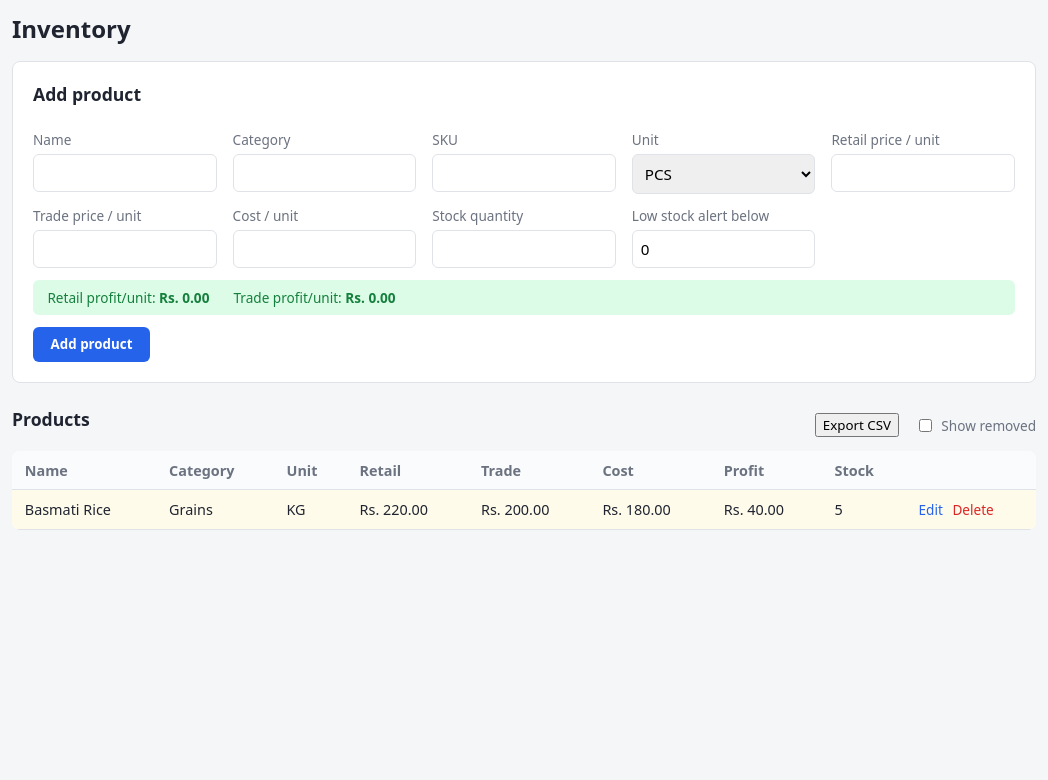
Test case: Inventory page › shows an error if deleting a product fails
The width and height of the screenshot is (1048, 780).
Check: the text "Basmati Rice" is shown, box [12, 490, 156, 530]
Click the button "Delete": (973, 510) [952, 500, 994, 519]
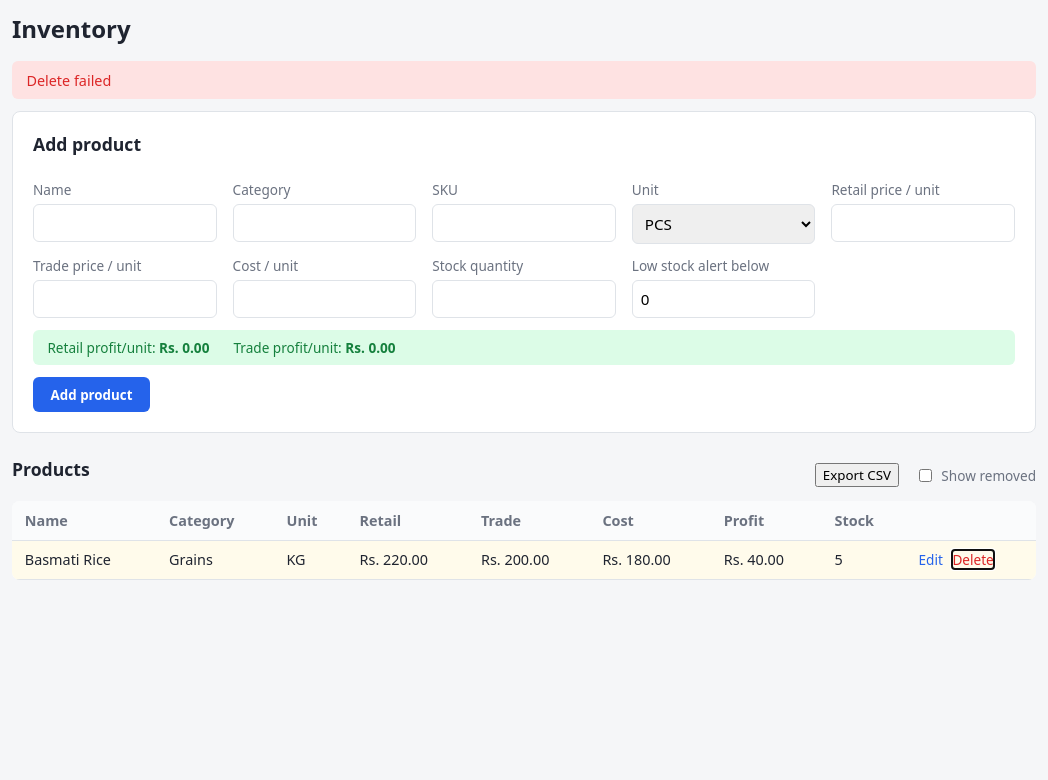
Check: the text "Delete failed" is shown, box [12, 61, 1036, 99]
